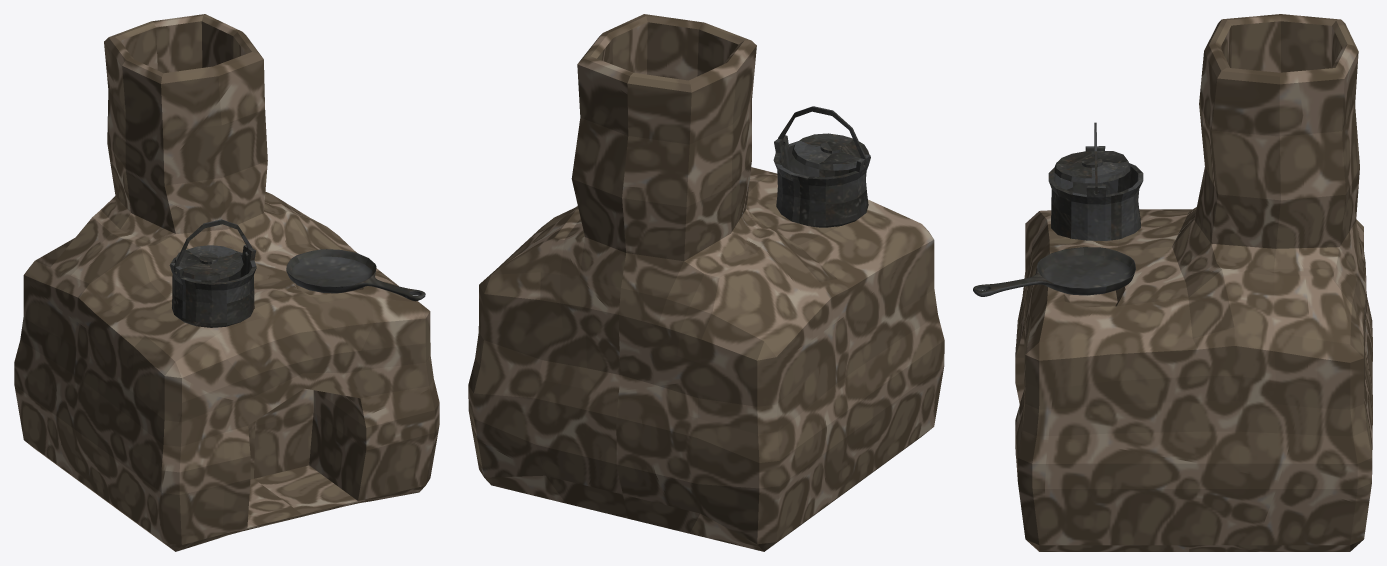
Rendered from LP_StoneOven.glb.
3 renders of one model, left to right at view 1: azimuth 30°, elevation 25°; view 2: azimuth 150°, elevation 25°; view 3: azimuth 270°, elevation 25°, orthographic. The views are drawn at different scales.
Parts seen in each view (by area): view 1: Cube; view 2: Cube; view 3: Cube.
Part boxes in pixels (x1,y1,x2,y2): Cube: (14, 14, 439, 551); Cube: (468, 14, 944, 551); Cube: (973, 14, 1372, 551).
Bounding box in the file's own units: 1.68 × 2.31 × 1.9.
2 materials, 2 textured.
